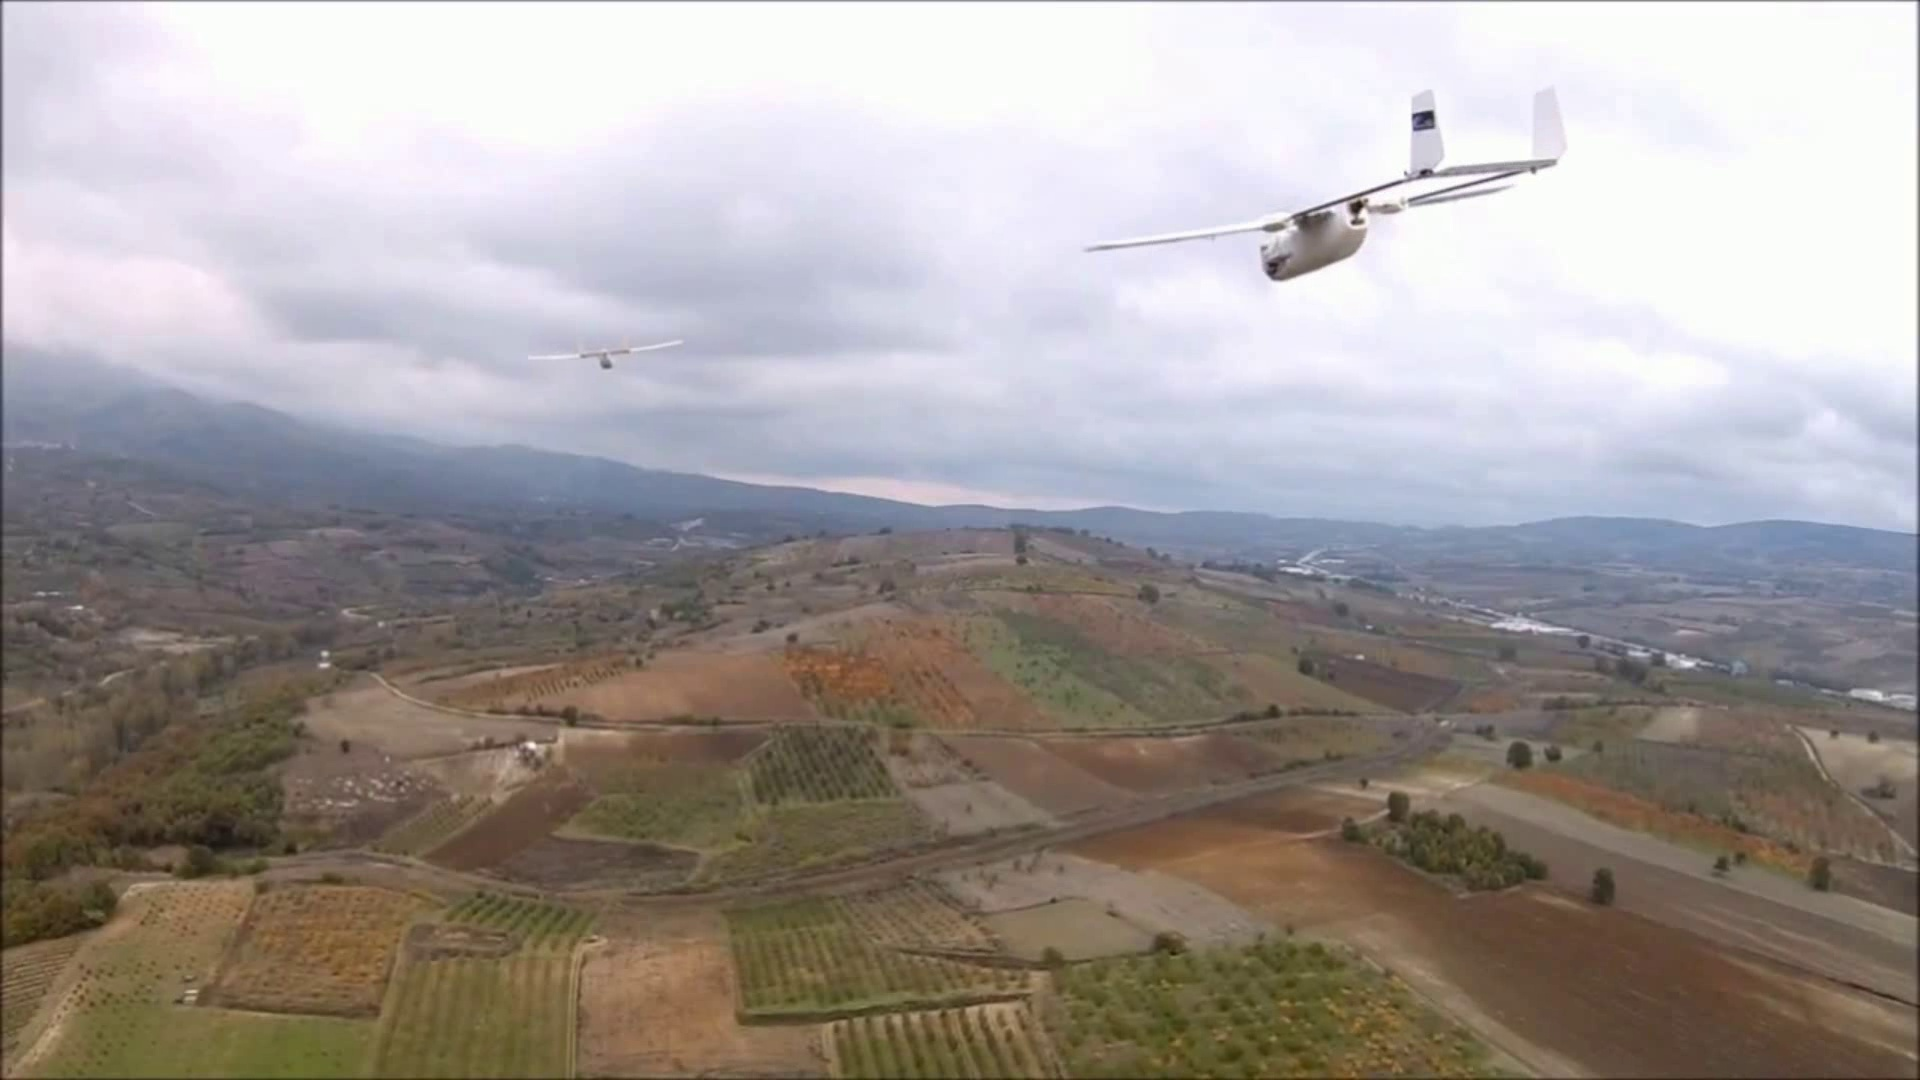airplane: (1083, 86, 1565, 285)
